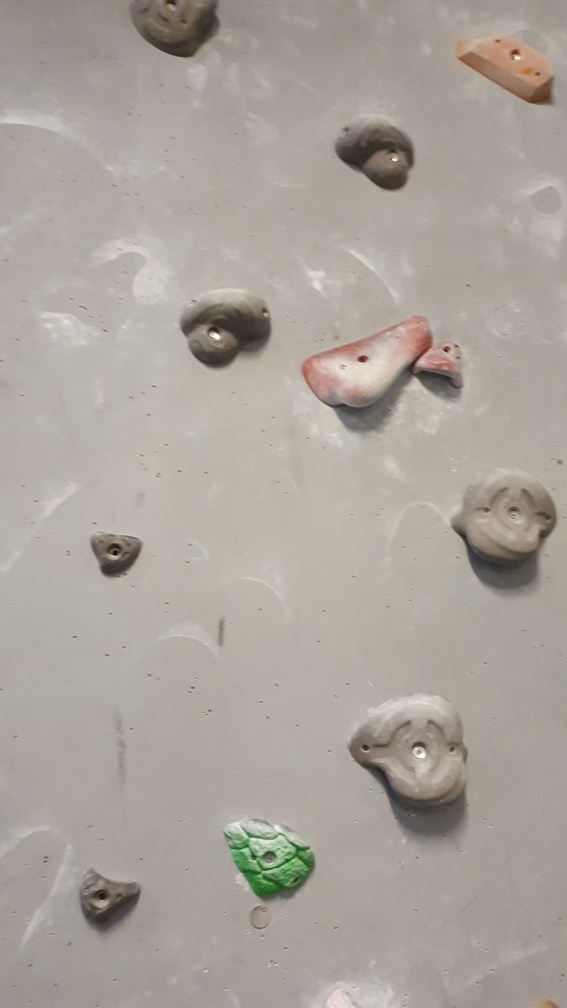Crimp: (86, 526, 147, 584)
Hand Start: (246, 904, 274, 934)
Jug: (344, 693, 471, 816), (448, 465, 560, 573), (180, 287, 274, 371), (334, 112, 418, 192)
Pinch: (452, 27, 556, 112)
